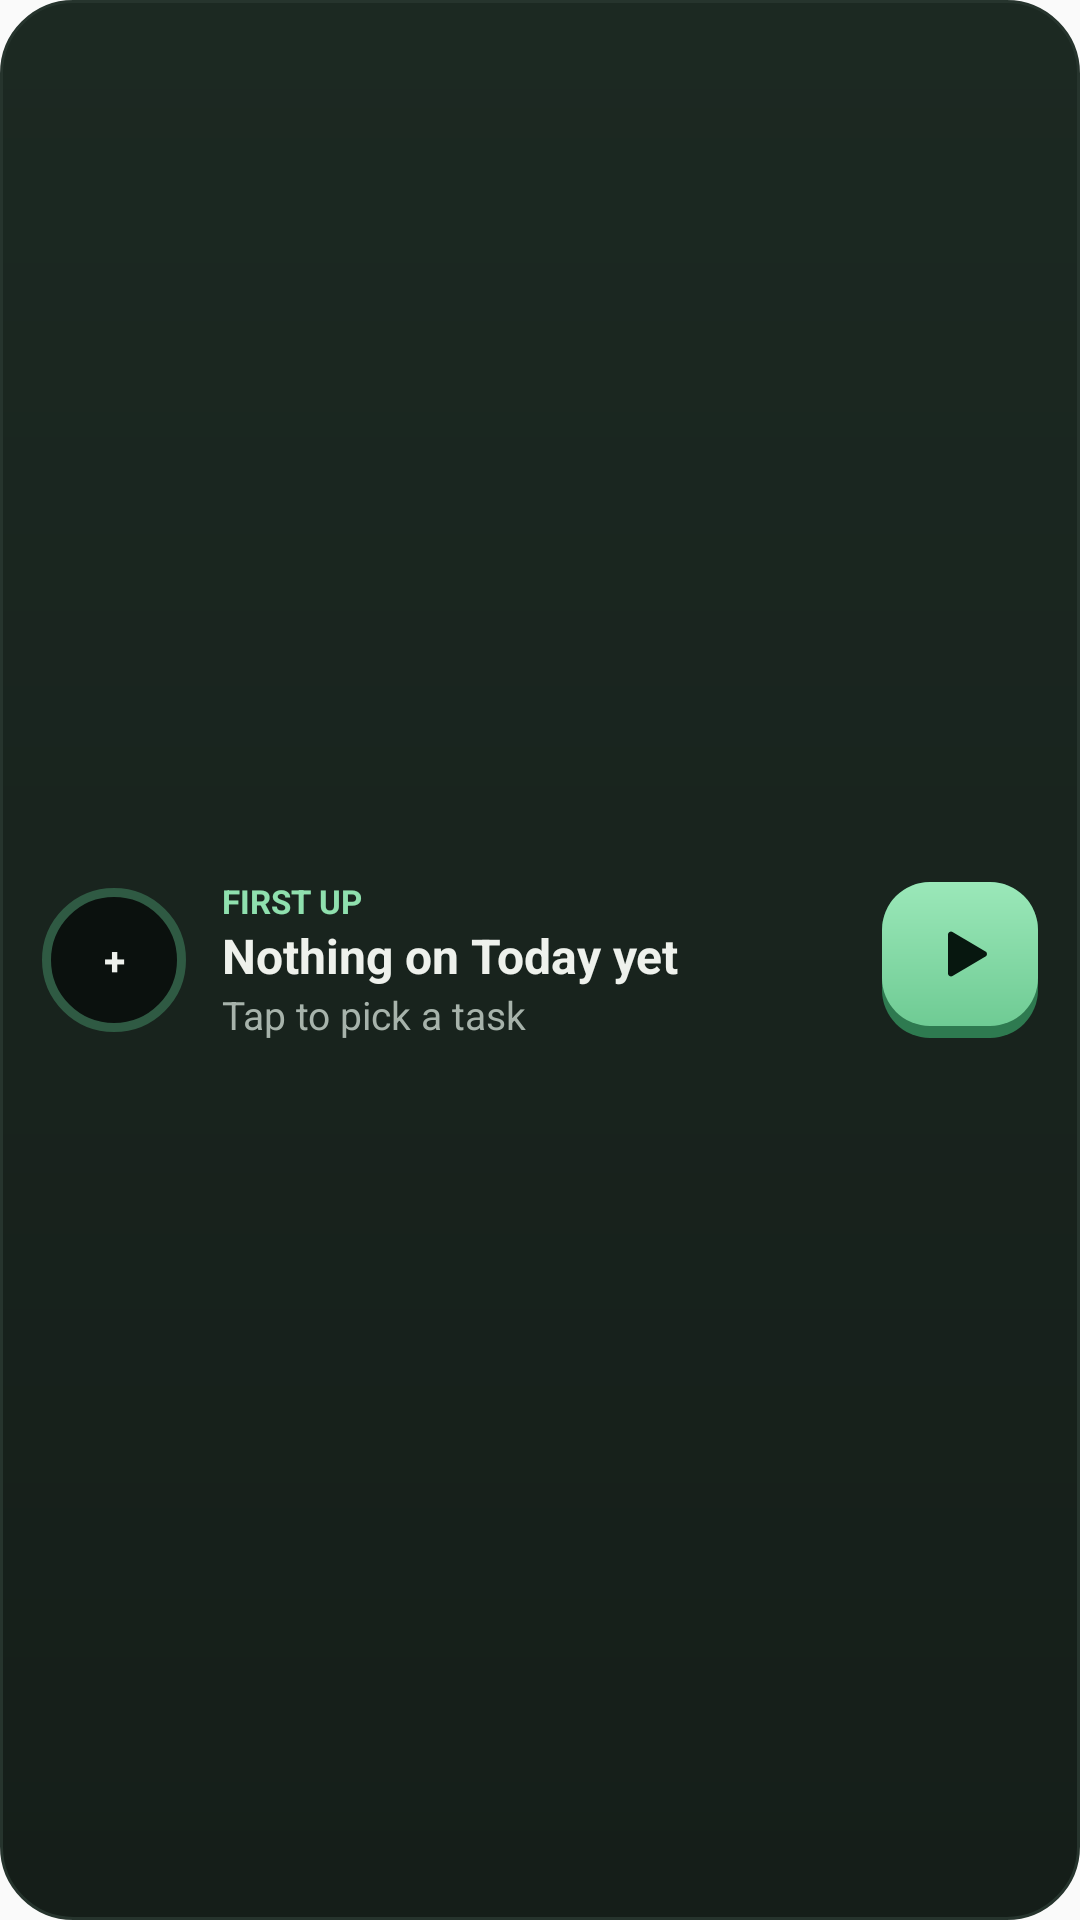

Screen size 1080px x 1920px. Icon name, then its box in pixels as {"left": x1, "top": y1, "right": x2, "bottom": y2}:
Start focusing: {"left": 882, "top": 882, "right": 1038, "bottom": 1038}
